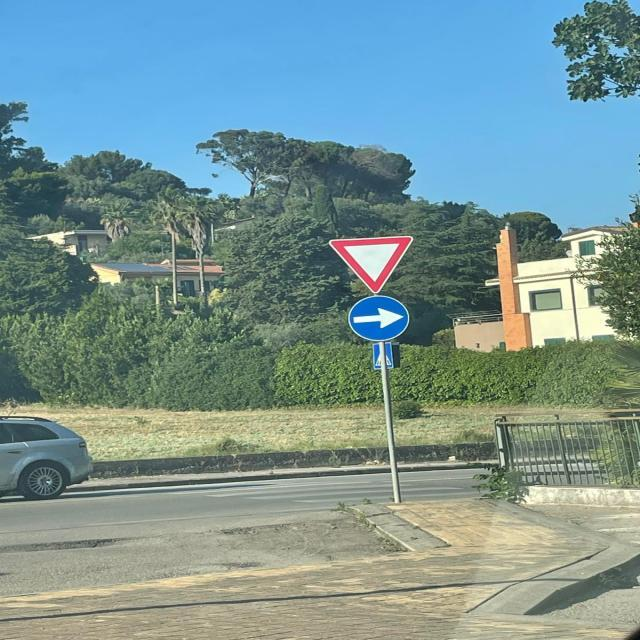prio_give_way: (329, 235, 415, 295)
